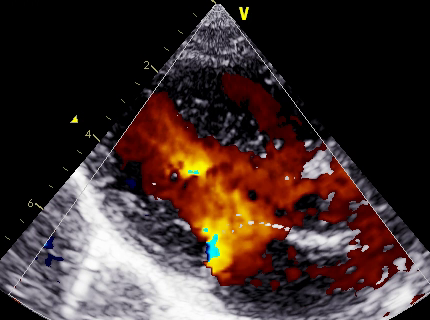AR: (190, 146, 320, 234)
